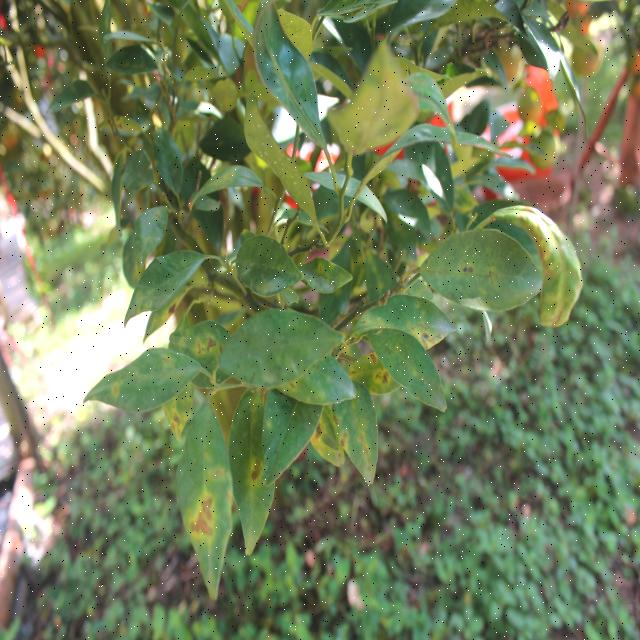canker: (182, 449, 232, 562), (101, 348, 188, 404), (335, 404, 383, 471), (436, 249, 502, 290), (178, 326, 228, 370), (397, 312, 446, 347), (276, 359, 311, 406), (356, 356, 400, 392), (311, 418, 341, 462), (162, 387, 190, 432)
